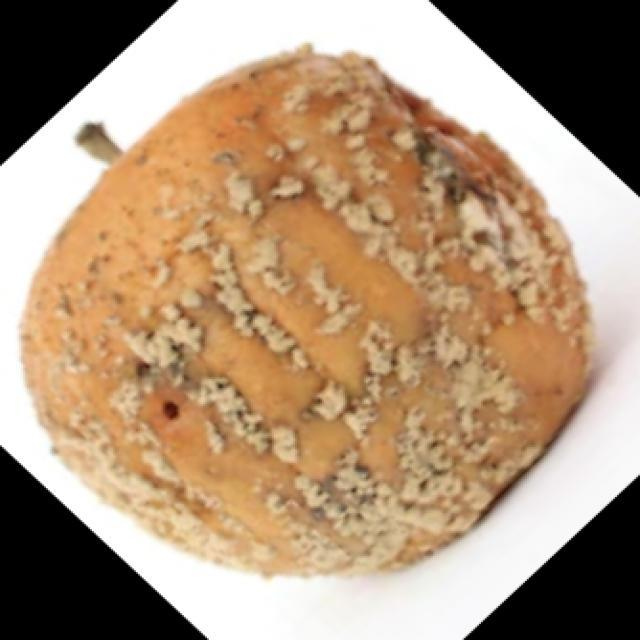Rotten: (37, 47, 590, 568)
